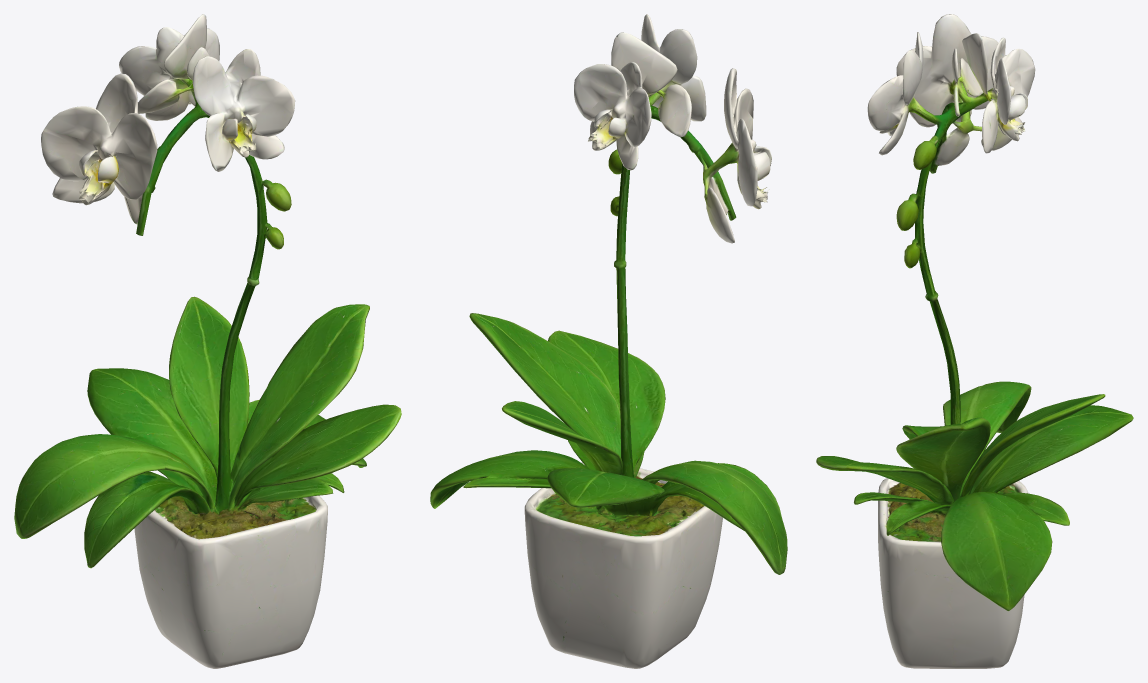
The model's file is Potted White Orchid.glb.
3 views of the same model, side by side, from view 1: azimuth 30°, elevation 25°; view 2: azimuth 150°, elevation 25°; view 3: azimuth 270°, elevation 25° (orthographic). The views are drawn at different scales.
Parts seen in each view (by area): view 1: Mesh_0.003; view 2: Mesh_0.003; view 3: Mesh_0.003.
Part boxes in pixels (x1,y1,x2,y2): Mesh_0.003: (14, 14, 401, 668); Mesh_0.003: (430, 14, 787, 668); Mesh_0.003: (816, 14, 1133, 668).
Size of the model in its own units: 0.2903 by 0.4999 by 0.2371.
Materials: 1 (1 with a texture image).
